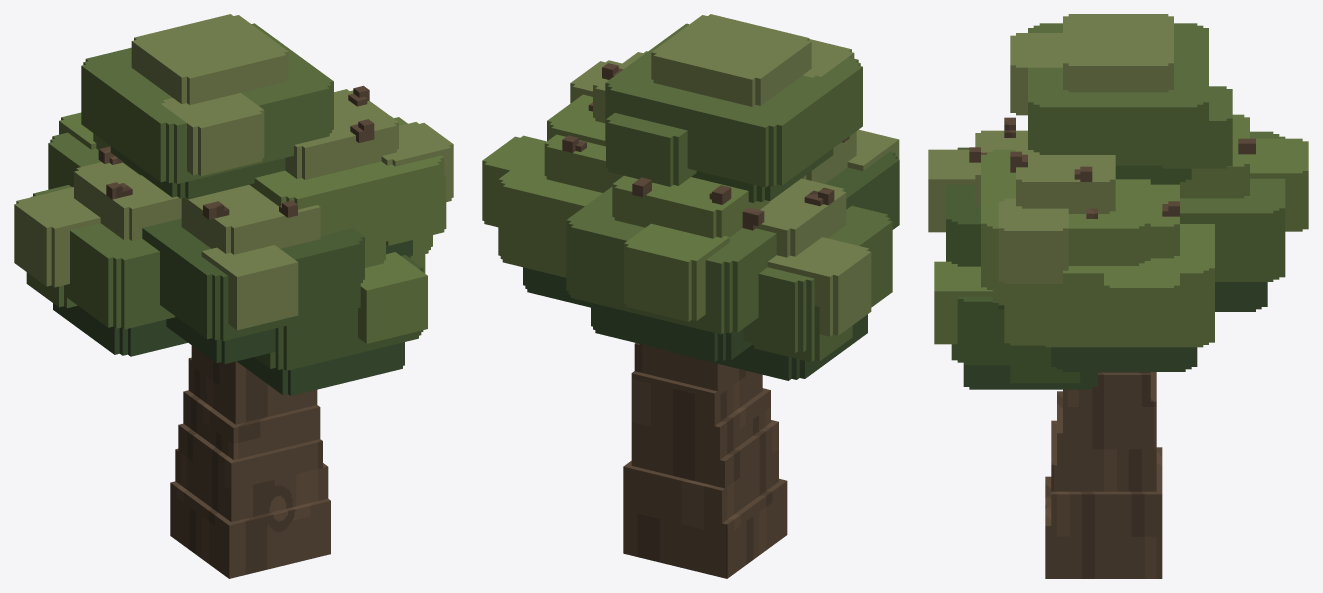
Rendered from oak_ancient_spring_3.glb.
3 renders of one model, left to right at view 1: azimuth 30°, elevation 25°; view 2: azimuth 150°, elevation 25°; view 3: azimuth 270°, elevation 25°, orthographic. The views are drawn at different scales.
Visible parts, largest first — view 1: VoxelVisual; view 2: VoxelVisual; view 3: VoxelVisual.
Boxes of the visible parts, x1,y1,x2,y2 form: VoxelVisual: (14, 14, 453, 578); VoxelVisual: (482, 14, 899, 578); VoxelVisual: (928, 14, 1308, 578).
Size of what is drawn, in the model's own units: 18 by 23.5 by 16.25.
